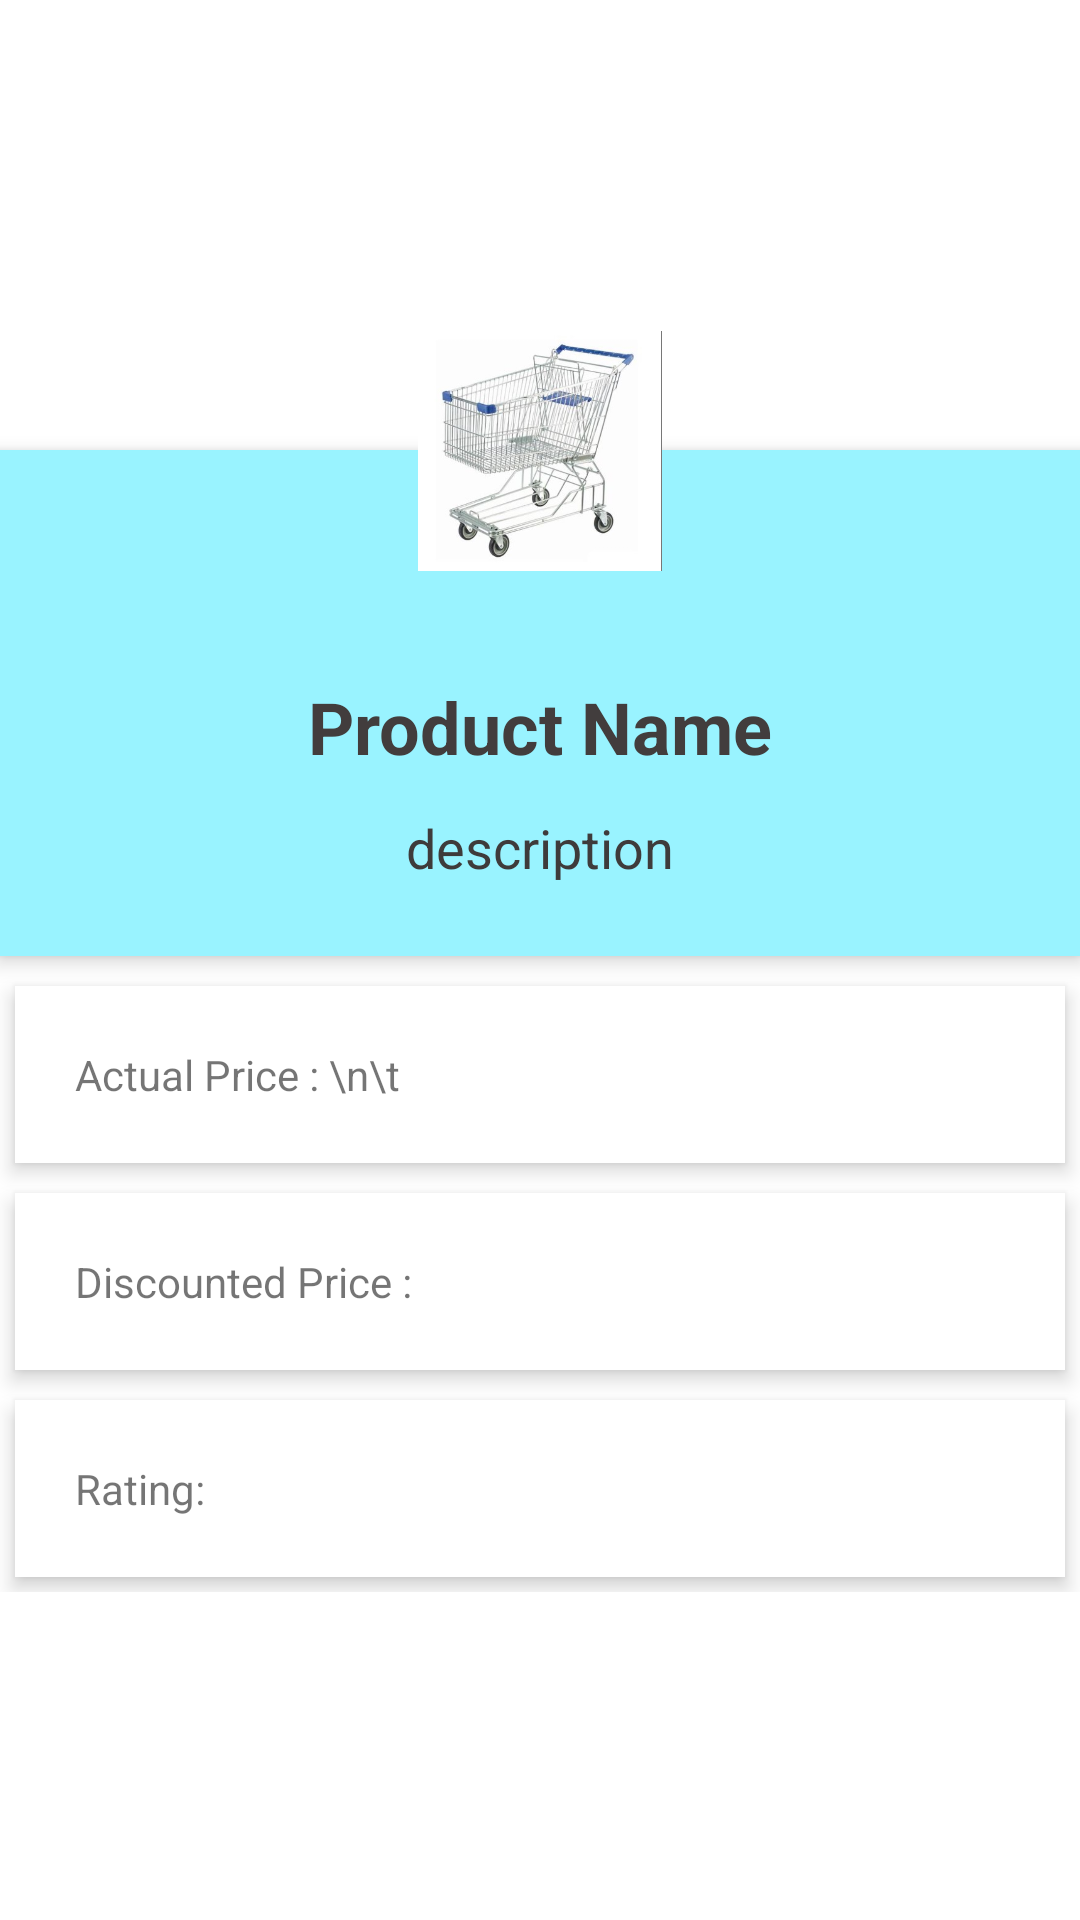

Named icons in this screenshot (1080px x 1920px) and their centers, [x,y]:
cart: [540,451]
